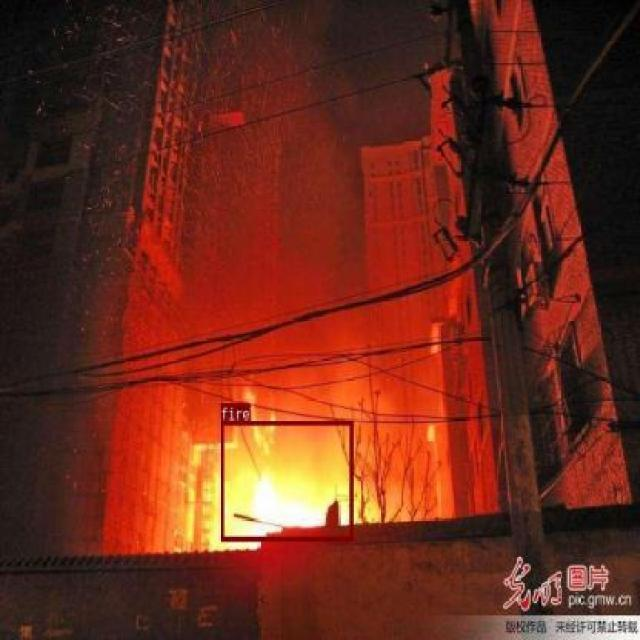Fire: (220, 418, 352, 540)
